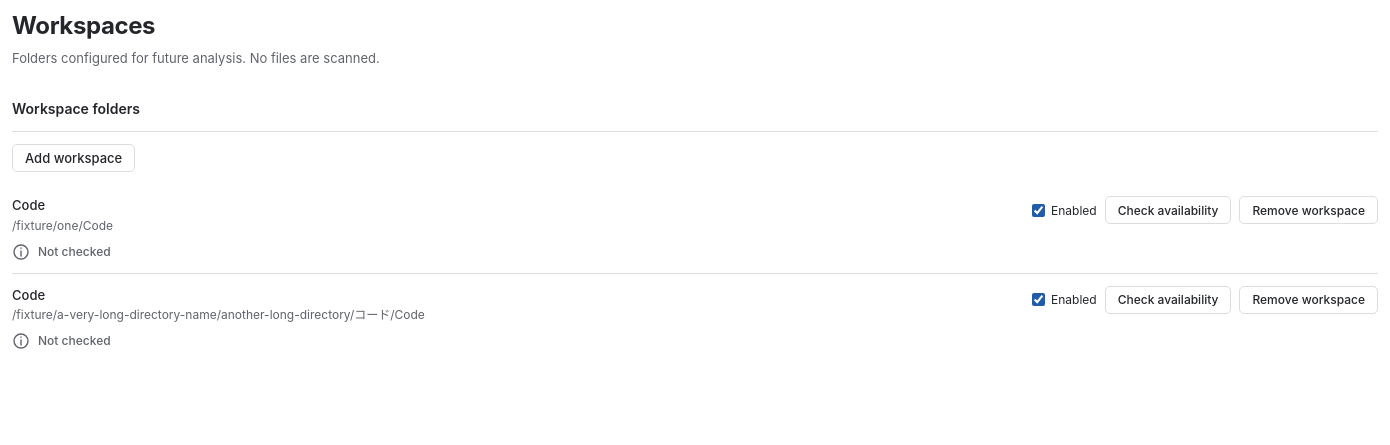
it: Workspaces view › restores Add focus on cancellation and focuses the existing row on duplicate
The image size is (1390, 445).
Click the button "Add workspace": (74, 158) [12,144,135,172]
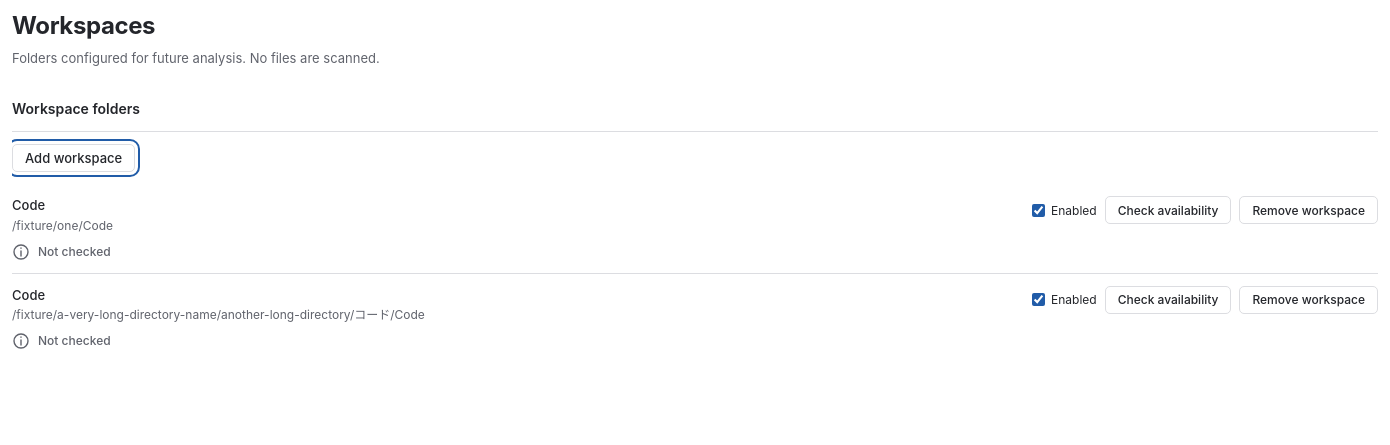
Click the button "Add workspace": (74, 158) [12,144,135,172]
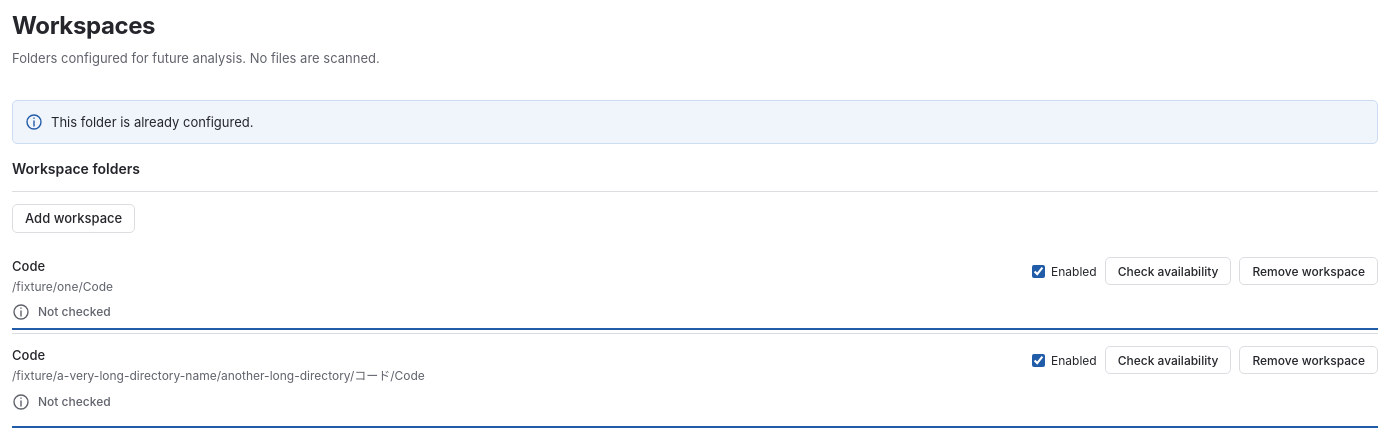
Expected: the text "This folder is already configured." is shown, [51,114,254,130]
